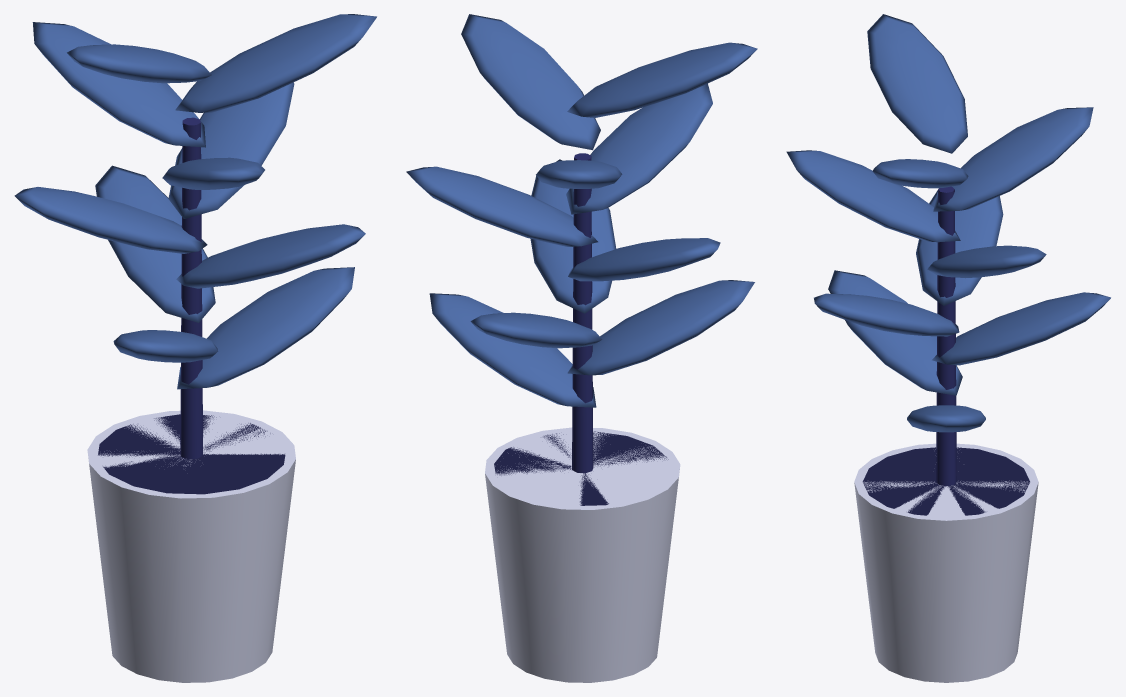
Rendered from planterTall.glb.
3 views of the same model, side by side, from view 1: azimuth 30°, elevation 25°; view 2: azimuth 150°, elevation 25°; view 3: azimuth 270°, elevation 25° (orthographic). The views are drawn at different scales.
Visible parts, largest first — view 1: pot, leaf0, leaf8, planterTall, leaf7, leaf2, leaf4, leaf5, leaf3, stem, leaf9, leaf1 (+1 smaller); view 2: pot, leaf8, leaf6, leaf1, leaf0, leaf5, leaf9, leaf3, stem, leaf4, planterTall, leaf2 (+1 smaller); view 3: pot, leaf9, planterTall, leaf7, leaf6, leaf2, leaf1, leaf3, stem, leaf4, leaf5, leaf8 (+1 smaller).
Boxes of the visible parts, x1,y1,x2,y2 form: pot: (87,410,295,682); leaf0: (177,267,354,389); leaf8: (175,14,376,112); planterTall: (98,414,285,494); leaf7: (32,22,205,147); leaf2: (95,165,215,322); leaf4: (14,187,207,253); leaf5: (168,82,294,218); leaf3: (176,224,365,288); stem: (180,117,203,459); leaf9: (67,44,211,83); leaf1: (113,330,218,362); pot: (485,427,680,682); leaf8: (461,14,600,150); leaf6: (566,83,712,214); leaf1: (567,280,754,375); leaf0: (429,293,596,407); leaf5: (406,166,597,246); leaf9: (567,42,757,117); leaf3: (530,159,616,313); stem: (572,153,593,473); leaf4: (568,238,720,281); planterTall: (494,431,668,505); leaf2: (470,312,602,348); pot: (854,443,1038,682); leaf9: (867,14,967,153); planterTall: (862,447,1029,515); leaf7: (933,107,1093,211); leaf6: (786,150,960,242); leaf2: (932,292,1110,365); leaf1: (828,270,962,395); leaf3: (814,293,959,336); stem: (936,186,956,486); leaf4: (916,190,1003,305); leaf5: (927,245,1046,278); leaf8: (872,159,968,188).
Bounding box in the file's own units: 0.785 × 1.51 × 0.776.
